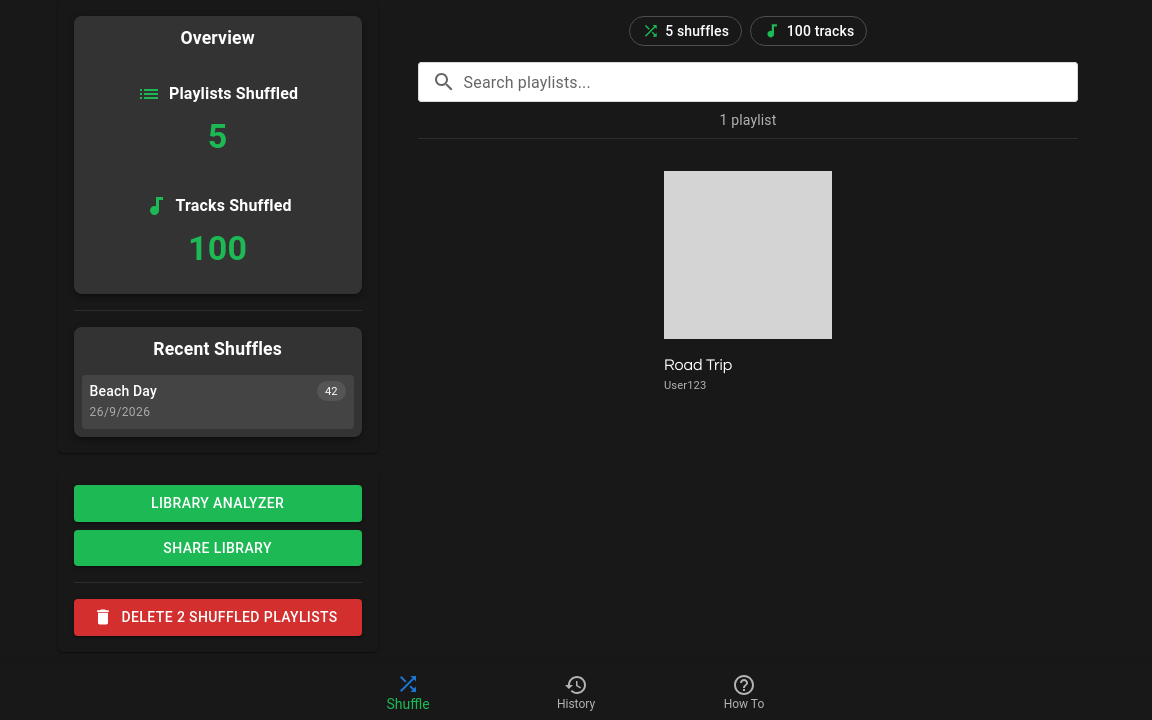
Test case: AllPlaylistsContainer (shuffle page body) › shows the mobile bottom nav and switches to the history view
Expected: the text "Road Trip" is shown, top-left (664, 357), bottom-right (732, 373)
Click the button "History" at x=576, y=692, box top-left (492, 664), bottom-right (660, 719)
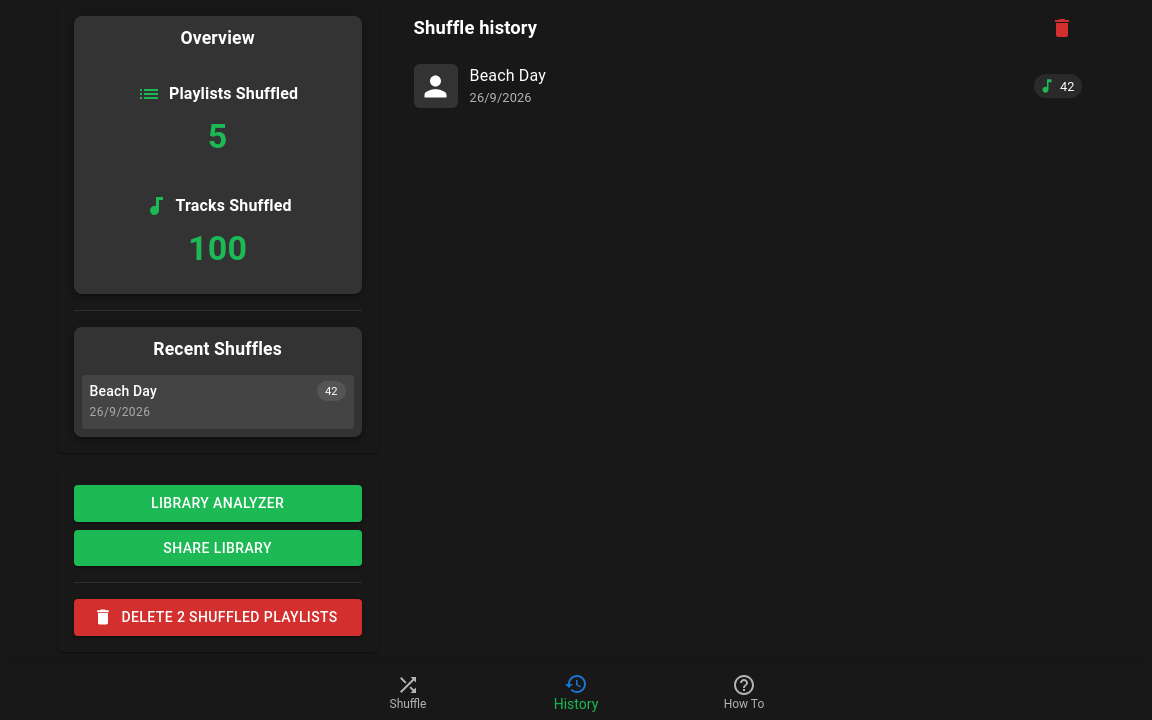
Expected: the text "Beach Day" below "Recent Shuffles" is shown, top-left (90, 383), bottom-right (157, 399)
Now the text "Shuffle history" is shown, box top-left (414, 13), bottom-right (537, 43)
